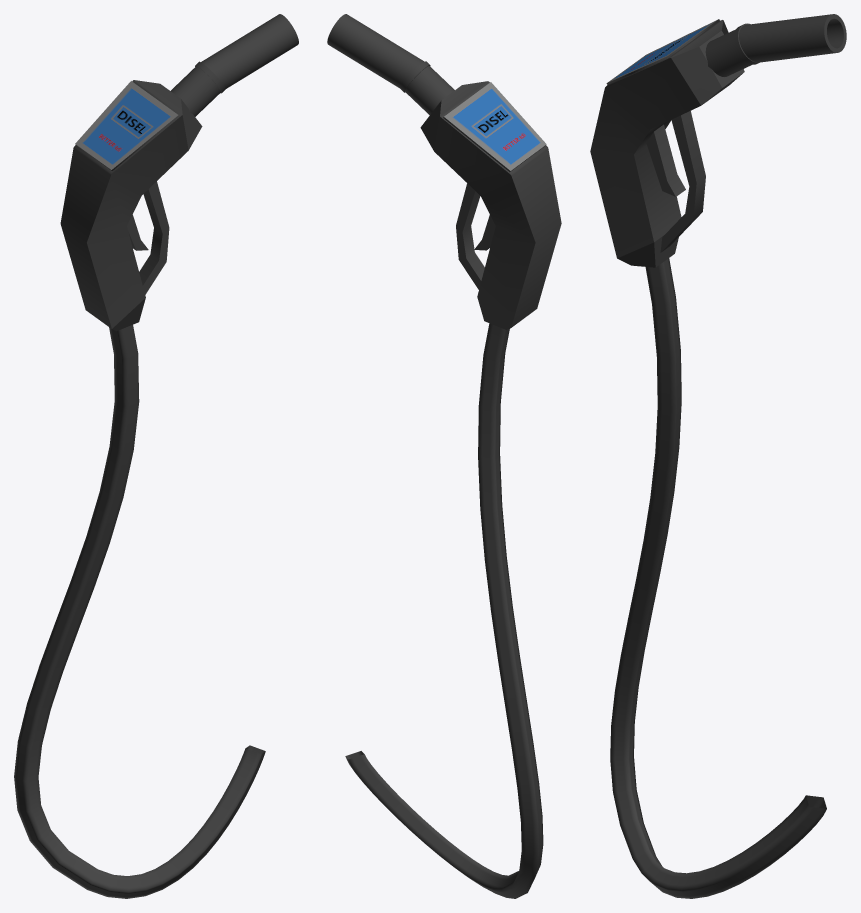
Rendered from pompeDisel.glb.
3 renders of one model, left to right at view 1: azimuth 30°, elevation 25°; view 2: azimuth 150°, elevation 25°; view 3: azimuth 330°, elevation 25°, orthographic. The views are drawn at different scales.
Parts seen in each view (by area): view 1: Cube.030_Material.022_0.003, Cube.030_95+fuel_0.001; view 2: Cube.030_Material.022_0.003, Cube.030_95+fuel_0.001; view 3: Cube.030_Material.022_0.003, Cube.030_95+fuel_0.001.
Boxes of the visible parts, left/top/right/bottom form: Cube.030_Material.022_0.003: left=14, top=14, right=298, bottom=898; Cube.030_95+fuel_0.001: left=75, top=81, right=178, bottom=169; Cube.030_Material.022_0.003: left=327, top=14, right=561, bottom=898; Cube.030_95+fuel_0.001: left=444, top=82, right=546, bottom=170; Cube.030_Material.022_0.003: left=590, top=14, right=846, bottom=898; Cube.030_95+fuel_0.001: left=607, top=19, right=718, bottom=82.
Bounding box in the file's own units: 0.4108 × 1.37 × 0.1795.
Materials: 2 (1 with a texture image).
